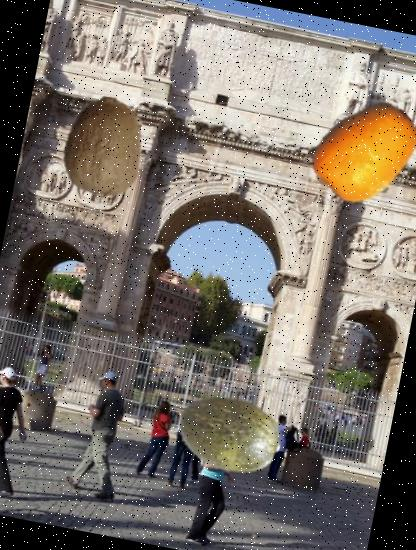Kiwi: (42, 88, 162, 208)
Kumquats: (301, 86, 416, 216)
Melon: (169, 369, 292, 492)
